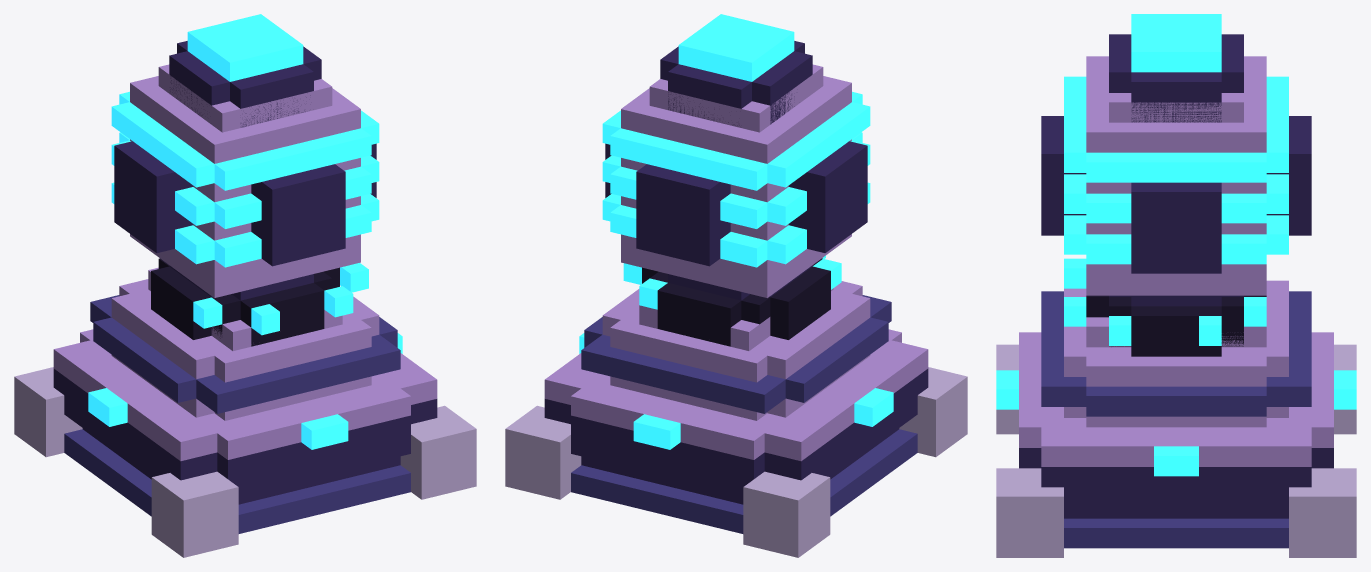
The model's file is shield-emitter.sm.glb.
The picture shows the model from 3 angles, left to right: view 1: azimuth 30°, elevation 25°; view 2: azimuth 150°, elevation 25°; view 3: azimuth 270°, elevation 25°; orthographic projection. The views are drawn at different scales.
Visible parts, largest first — view 1: shield-emitter.sm; view 2: shield-emitter.sm; view 3: shield-emitter.sm.
Boxes of the visible parts, x1,y1,x2,y2 form: shield-emitter.sm: (14,14,476,557); shield-emitter.sm: (505,14,967,557); shield-emitter.sm: (996,14,1356,557).
Bounding box in the file's own units: 1 × 1.38 × 1.
